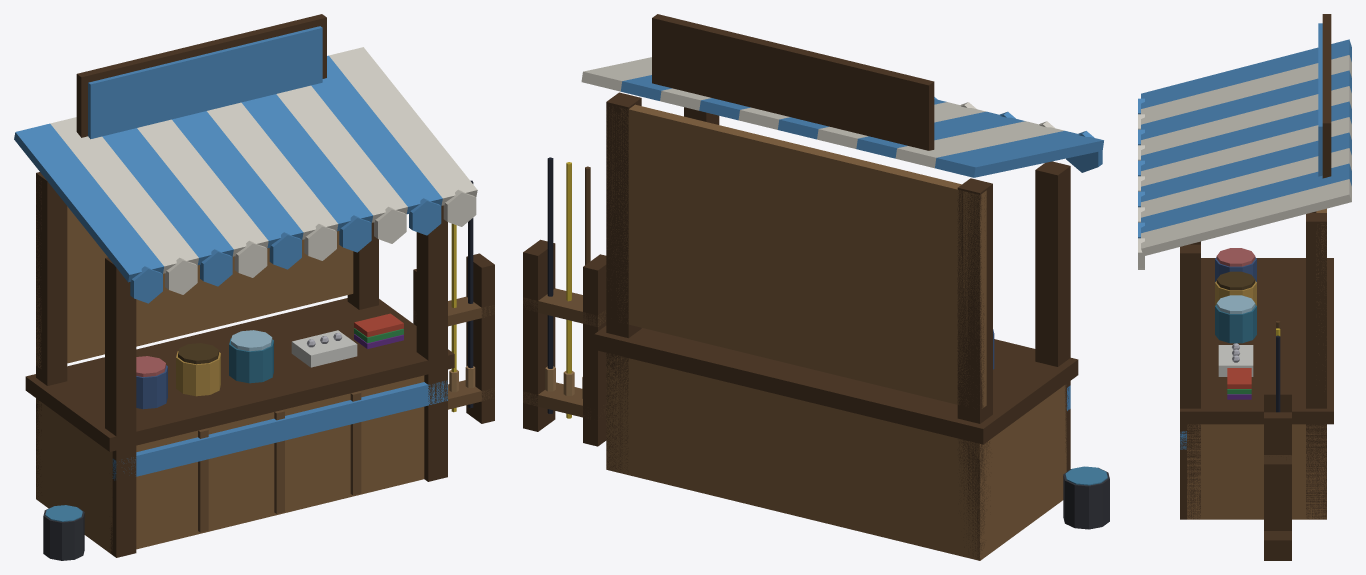
Rendered from BaitShopStand.glb.
The picture shows the model from 3 angles, left to right: view 1: azimuth 30°, elevation 25°; view 2: azimuth 150°, elevation 25°; view 3: azimuth 270°, elevation 25°; orthographic projection. The views are drawn at different scales.
Visible parts, largest first — view 1: BaitShopStand; view 2: BaitShopStand; view 3: BaitShopStand.
Boxes of the visible parts, left/top/right/bottom form: BaitShopStand: left=14, top=14, right=494, bottom=560; BaitShopStand: left=523, top=14, right=1109, bottom=560; BaitShopStand: left=1138, top=14, right=1351, bottom=560.
Size of the model in its own units: 14.32 by 11.9 by 6.11.
